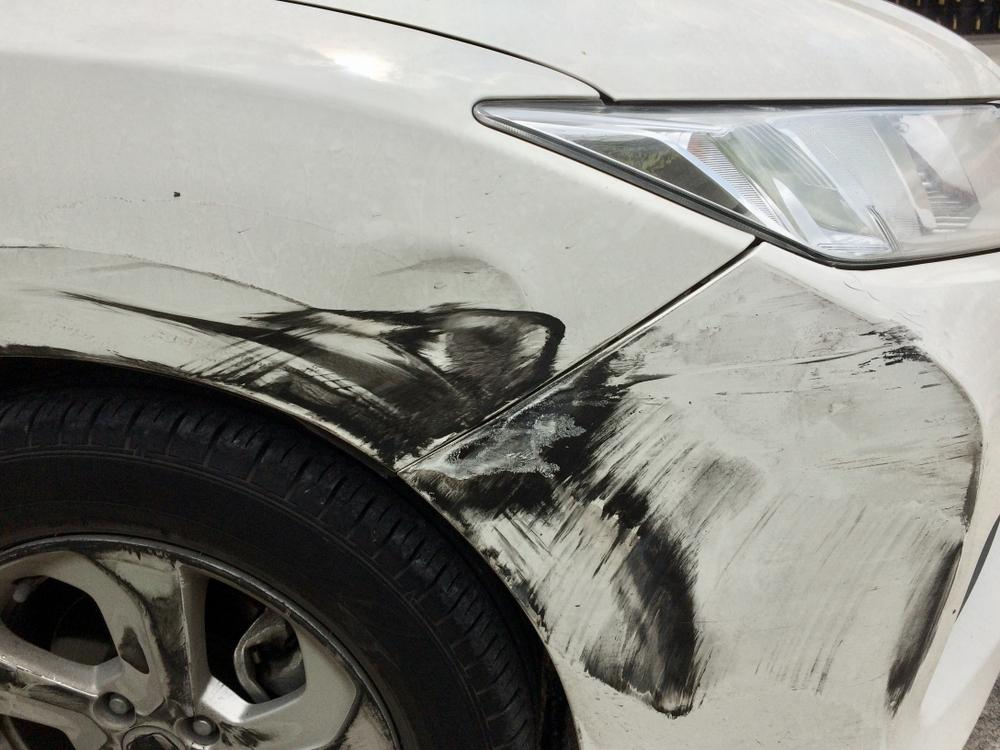scratch: (396, 295, 1000, 736), (0, 241, 582, 476)
